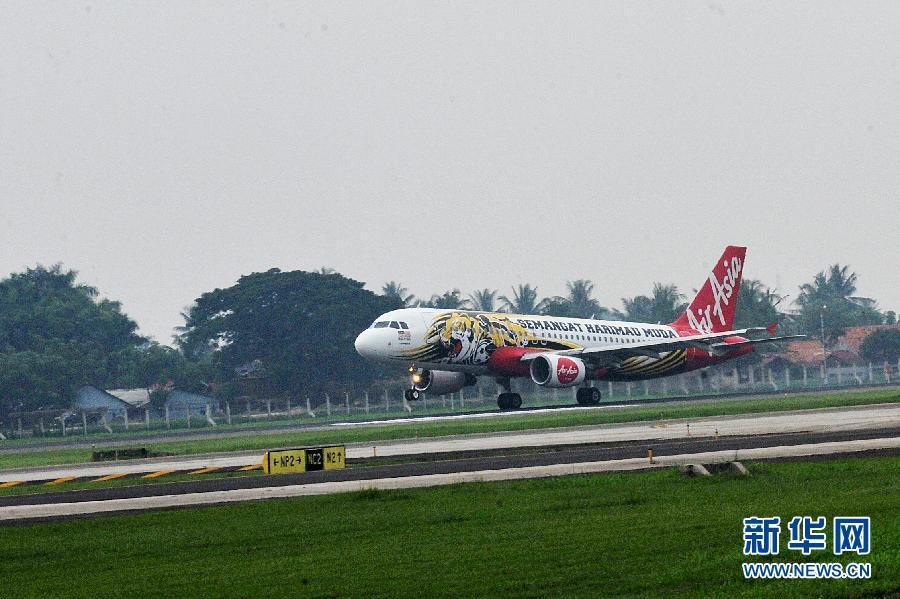airplane: (351, 239, 777, 409)
